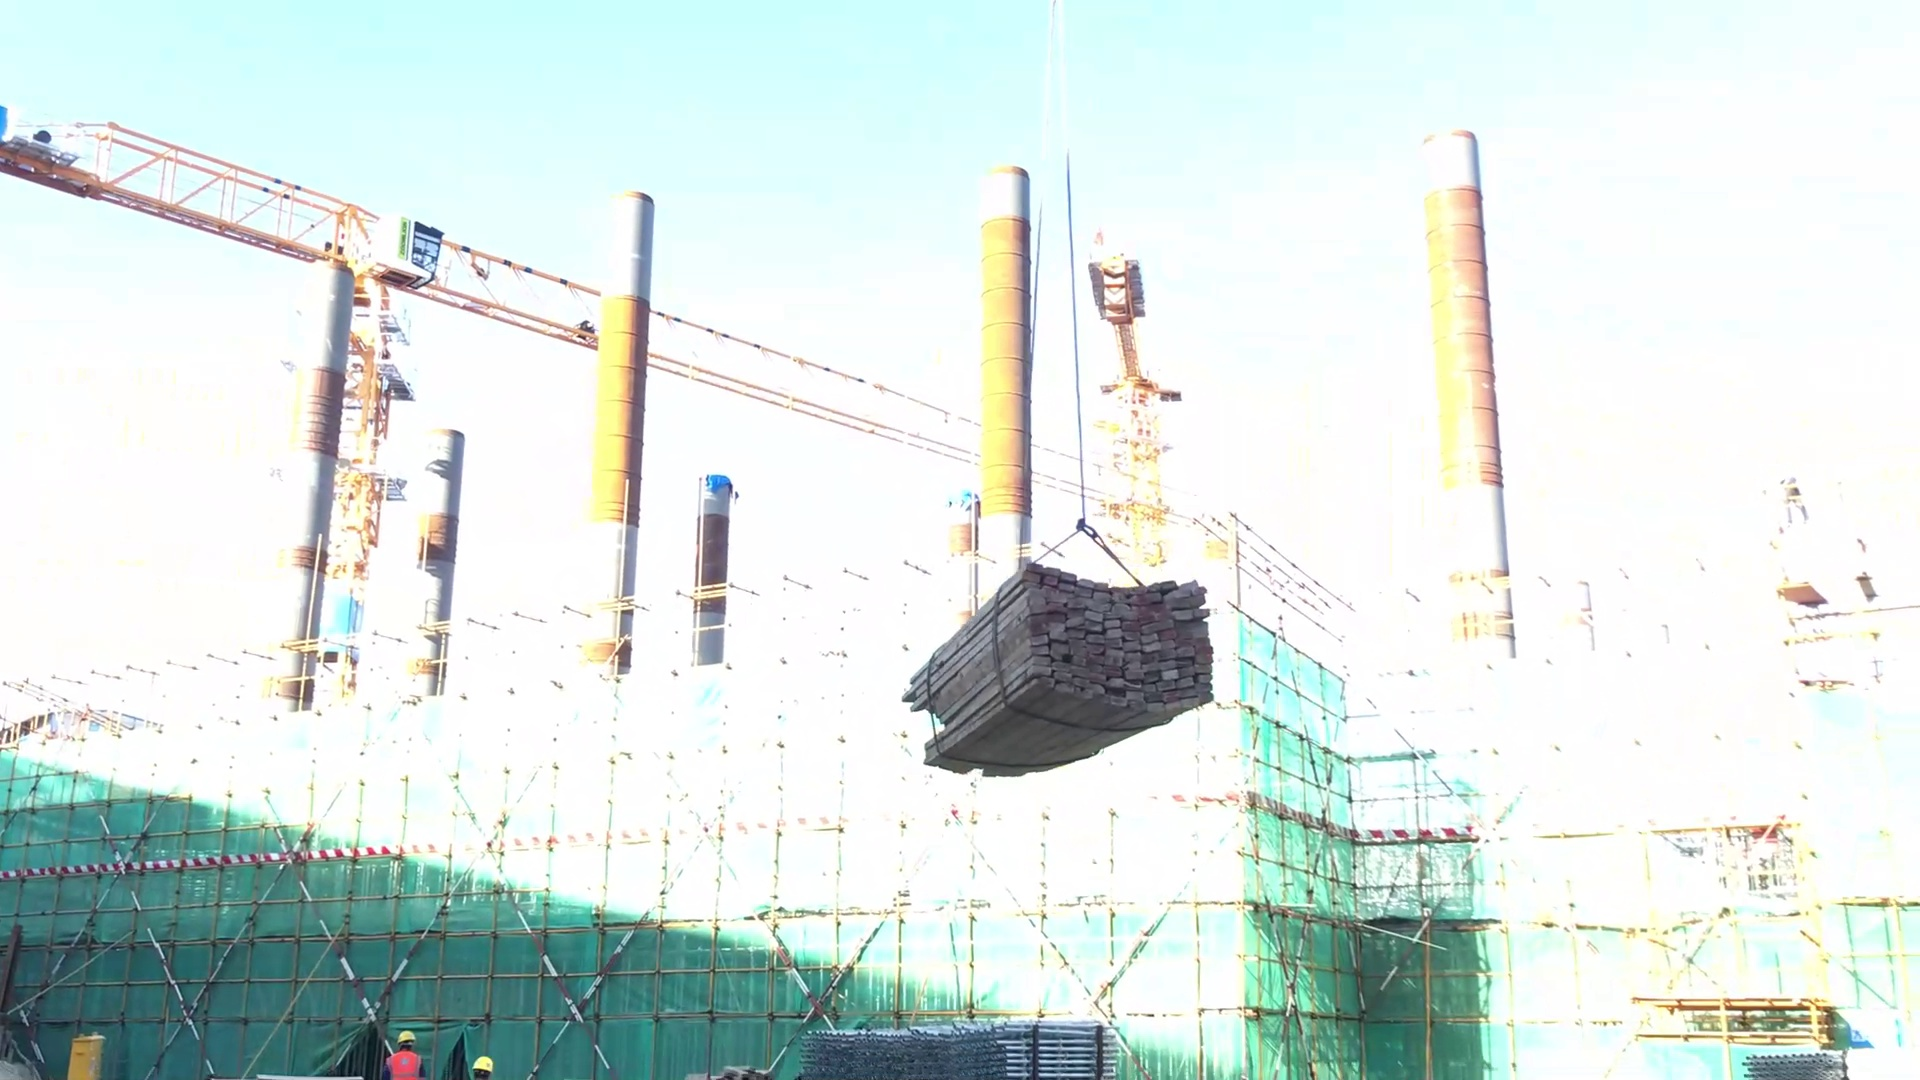helmet: (467, 1053, 496, 1075), (394, 1025, 414, 1044)
person: (384, 1023, 419, 1080)
scaffold: (800, 1020, 1119, 1079)
vest: (388, 1054, 416, 1080)
wood: (896, 563, 1221, 785)
